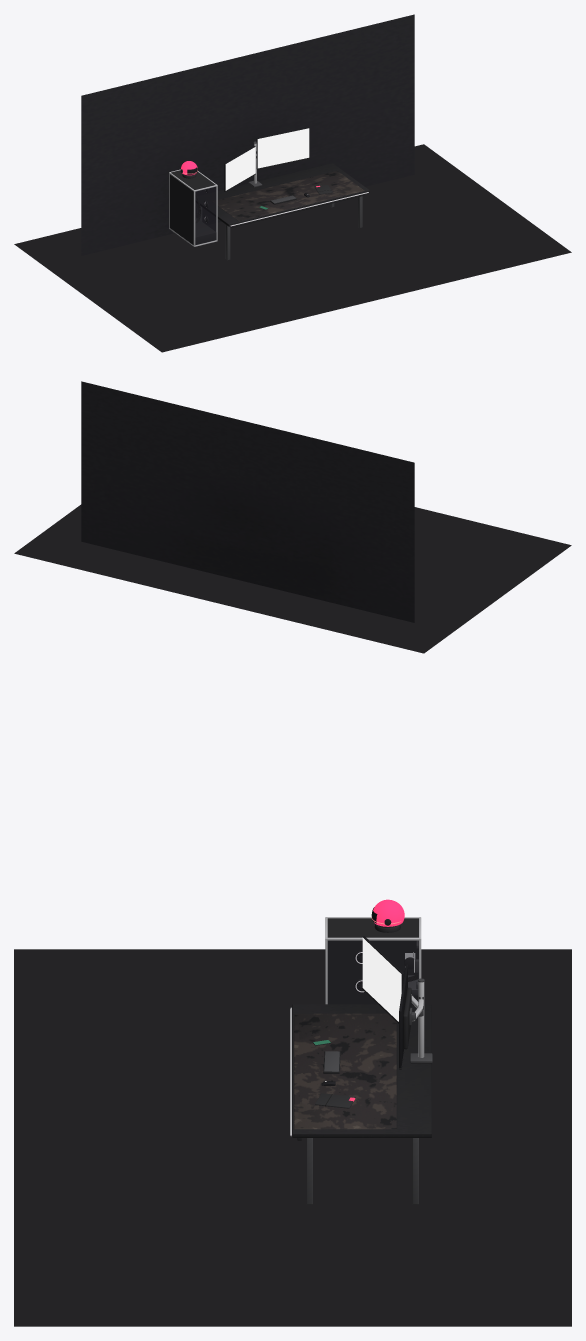
Rendered from setup-v3cc-4k.glb.
The picture shows the model from 3 angles, top to bottom: view 1: azimuth 30°, elevation 25°; view 2: azimuth 150°, elevation 25°; view 3: azimuth 270°, elevation 25°; orthographic projection. The views are drawn at different scales.
Visible parts, largest first — view 1: Floor, Wall, Deskmat, Desk, ScreenR, CasePanelLeft, CaseGlass, ScreenL, CaseGlassFront; view 2: Wall, Floor; view 3: Floor, Deskmat, Desk, CaseGlassFront, CasePanelLeft, ScreenL, CaseTop.
Boxes of the visible parts, x1,y1,x2,y2 form: Floor: [14, 144, 571, 352]; Wall: [81, 14, 414, 255]; Deskmat: [212, 171, 364, 221]; Desk: [195, 163, 369, 226]; ScreenR: [257, 128, 309, 168]; CasePanelLeft: [169, 174, 193, 244]; CaseGlass: [195, 187, 216, 244]; ScreenL: [225, 147, 255, 190]; CaseGlassFront: [196, 187, 215, 230]; Wall: [81, 381, 414, 622]; Floor: [14, 504, 571, 653]; Floor: [14, 949, 571, 1326]; Deskmat: [294, 1013, 396, 1129]; Desk: [292, 1004, 431, 1137]; CaseGlassFront: [328, 941, 418, 1003]; CasePanelLeft: [327, 940, 418, 1004]; ScreenL: [362, 937, 401, 1021]; CaseTop: [327, 918, 418, 937].
Bounding box in the file's own units: 8 × 3.2 × 5.
Materials: 21 (3 with a texture image).
